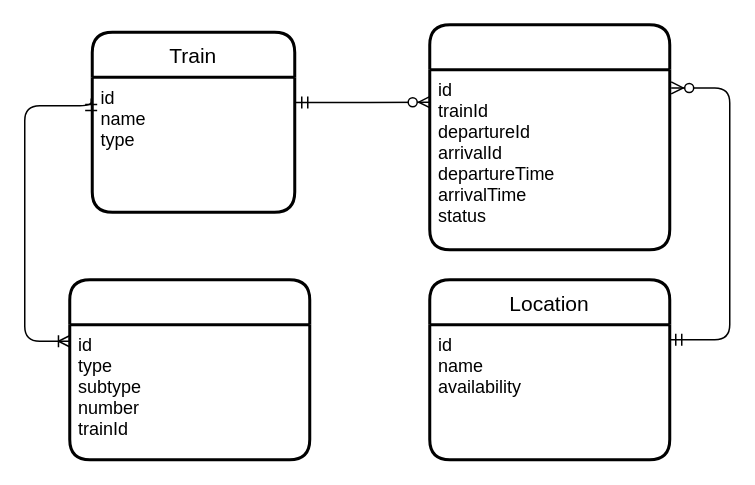
The diagram is 755 pixels wide and 485 high, and some of its shapes have lost their labels. The shapes that lost their labels are listed below. From the top down, each one's box as (x1, y1, x2, y2) in pixels, then its label:
(428, 22, 670, 250): Route
(68, 278, 310, 460): Wagon
